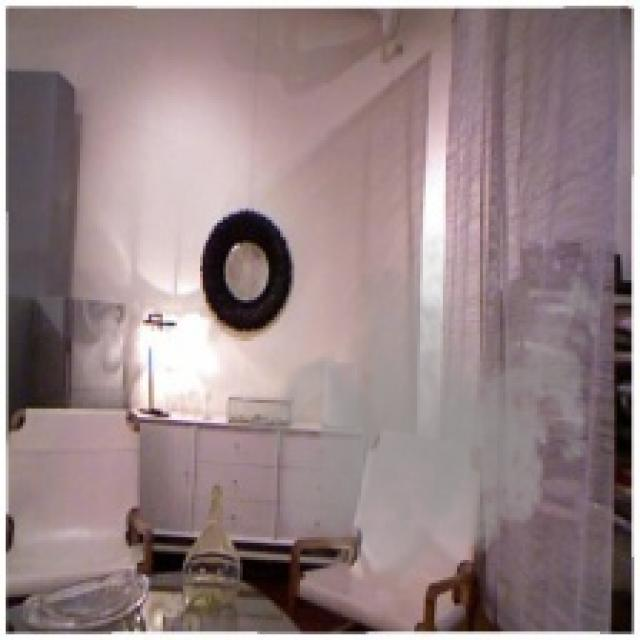smoke: (246, 208, 611, 606)
